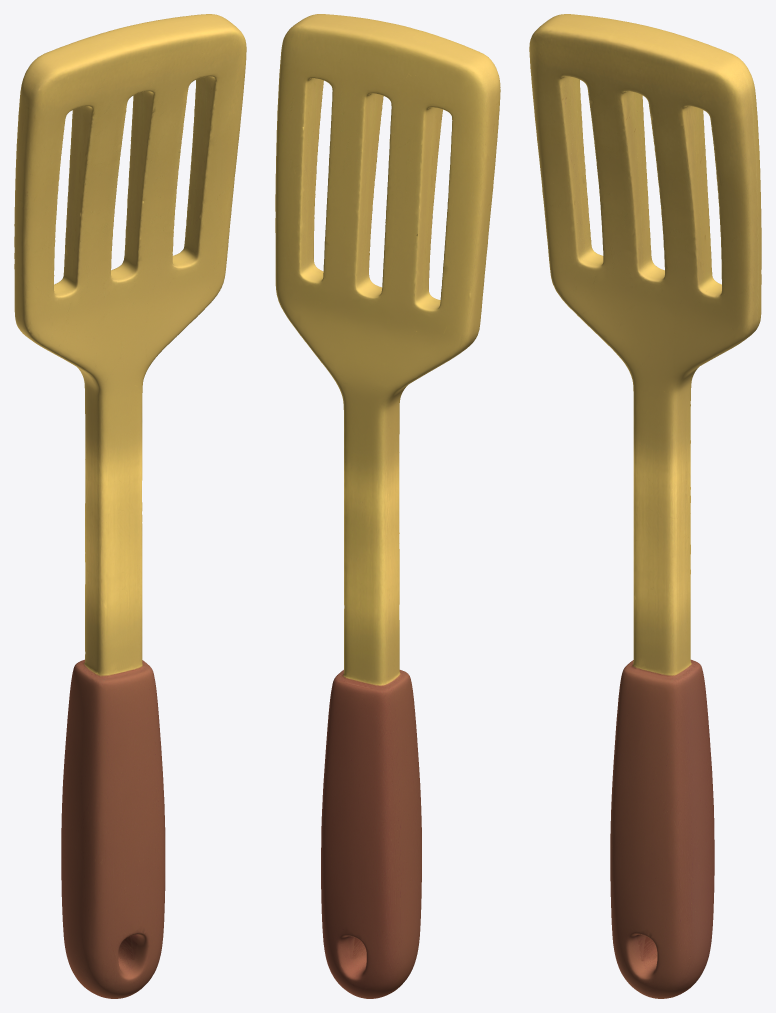
Rendered from accessories_set_4_item_15.glb.
3 views of the same model, side by side, from view 1: azimuth 30°, elevation 25°; view 2: azimuth 150°, elevation 25°; view 3: azimuth 330°, elevation 25° (orthographic). The views are drawn at different scales.
Size of the model in its own units: 0.4415 by 1.9 by 0.1985.
1 material, 1 textured.
